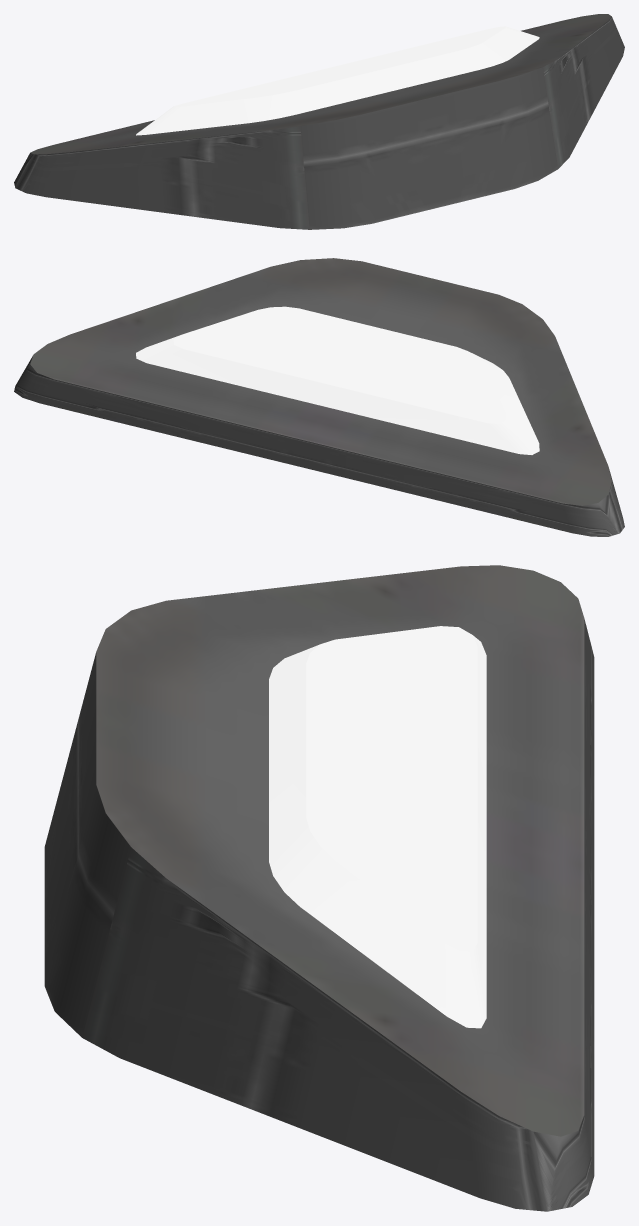
Rendered from prop_light_floor.glb.
3 renders of one model, top to bottom at view 1: azimuth 30°, elevation 25°; view 2: azimuth 150°, elevation 25°; view 3: azimuth 270°, elevation 25°, orthographic. The views are drawn at different scales.
Visible parts, largest first — view 1: Prop_Light_Floor; view 2: Prop_Light_Floor; view 3: Prop_Light_Floor.
Part boxes in pixels (<box>): Prop_Light_Floor: <box>14,14,624,229</box>; Prop_Light_Floor: <box>14,258,624,536</box>; Prop_Light_Floor: <box>44,565,594,1211</box>.
Size of the model in its own units: 1.33 by 0.209 by 0.5246.
2 materials, 1 textured.
